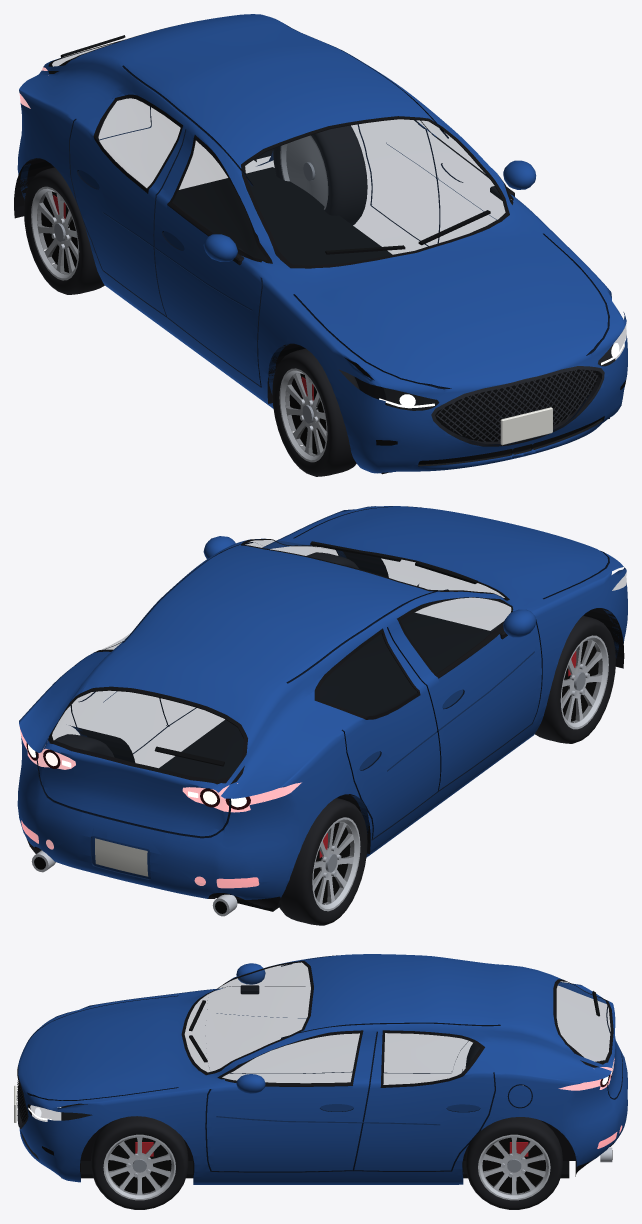
File: car_hatch_blue.glb
3 views of the same model, one above another, from view 1: azimuth 30°, elevation 25°; view 2: azimuth 150°, elevation 25°; view 3: azimuth 270°, elevation 25° (orthographic). The views are drawn at different scales.
Visible parts, largest first — view 1: body, wheel_fl, wheel_rl, wheel_rr; view 2: body, wheel_rl, wheel_fl, wheel_rr; view 3: body, wheel_fr, wheel_rr.
Boxes of the visible parts, x1,y1,x2,y2 form: body: (14,14,627,474); wheel_fl: (272,348,359,476); wheel_rl: (24,167,104,294); wheel_rr: (273,125,367,225); body: (17,506,627,916); wheel_rl: (279,798,367,925); wheel_fl: (535,615,615,743); wheel_rr: (27,734,114,853); body: (14,954,627,1184); wheel_fr: (91,1116,188,1209); wheel_rr: (465,1117,562,1209).
Size of the model in its own units: 2.06 by 1.44 by 4.46.
